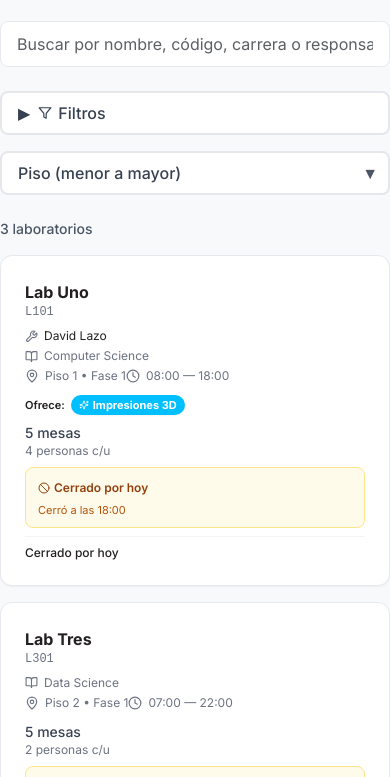
Scenario: LaboratoriosPage › abre filtros y filtra por "Disponibles ahora"
Expected: the heading "Lab Uno" is shown, [25,282,89,302]
Click the button "▶ Filtros".
click(82, 113)  # box [0,91,389,135]
(page scrolled)
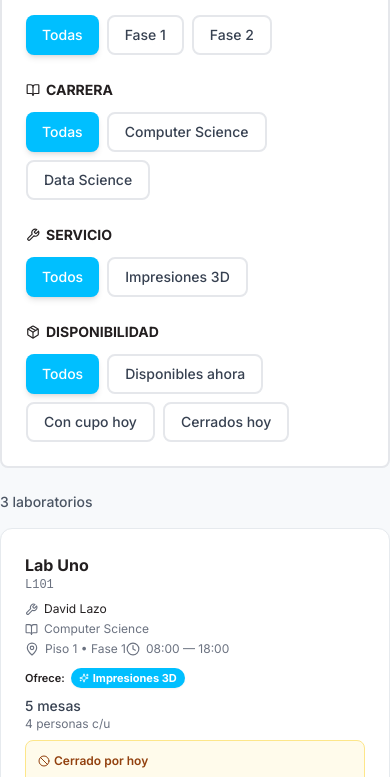
Click the button "Disponibles ahora".
click(185, 374)  # box [107,354,263,394]
(page scrolled)
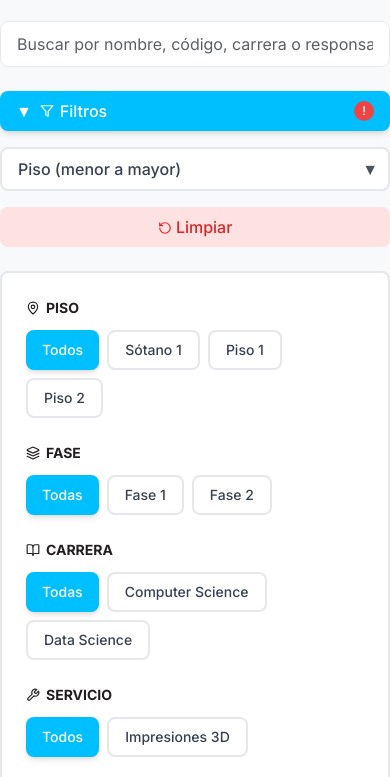
Note: aparece botón limpiar
Click the button "Limpiar".
click(195, 227)  # box [0,207,389,247]
(page scrolled)
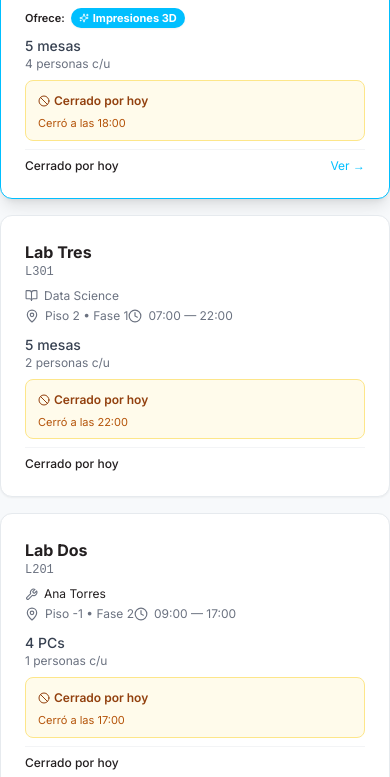
Expected: the heading "Lab Dos" is shown, [25,540,88,560]
